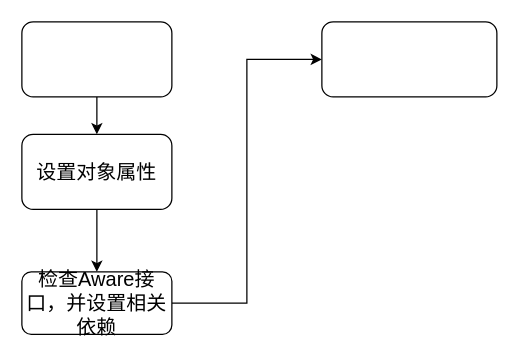
Image size: 519x361. Some labels were removed from this diagram. The shapes that lost their labels are listed below. From the top down, each one's centre as x and y in pixels, then its label:
At (x=96, y=59): "实例化Bean对象".
At (x=409, y=59): "BeanPpostProcessor 前置处理".
